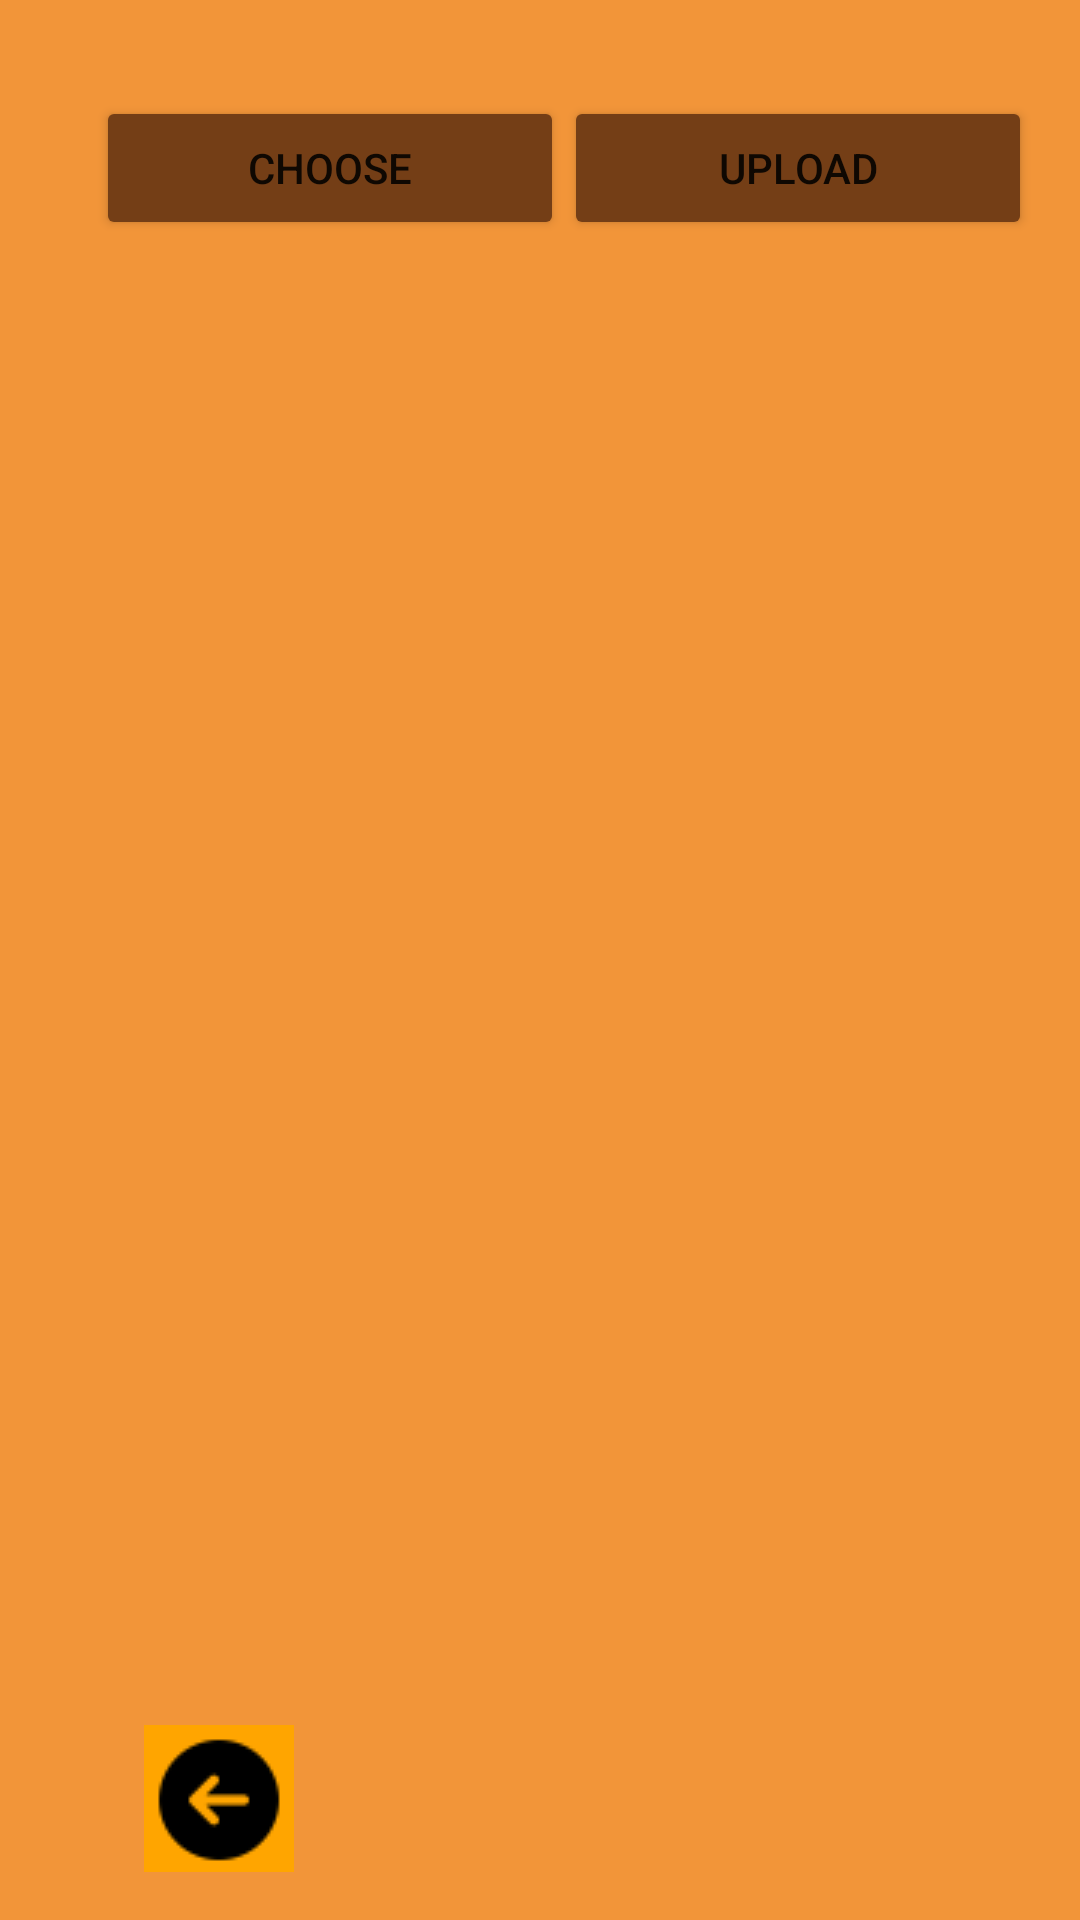

Named icons in this screenshot (1080 x 1920) and their bounding boxes, rect(x1, y1, x2, y2):
goback: rect(144, 1725, 294, 1872)
